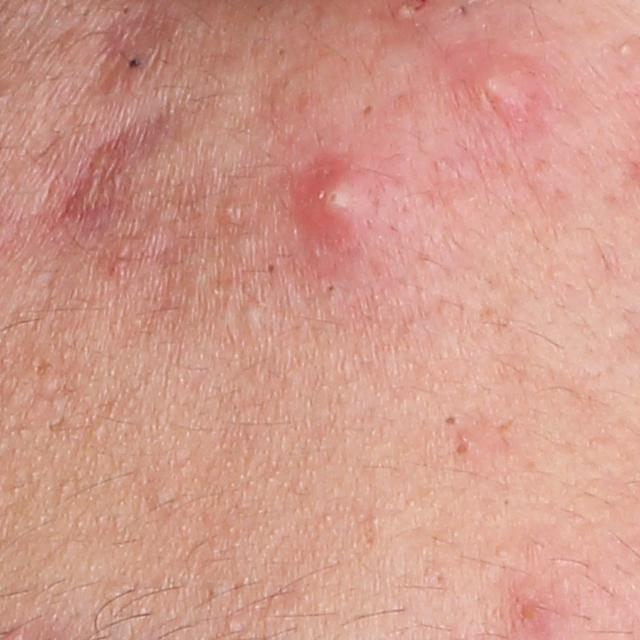comedo: (235, 302, 265, 334), (448, 435, 477, 462), (319, 276, 346, 301), (219, 203, 244, 222), (224, 614, 245, 633)
pustule: (468, 57, 531, 110), (316, 167, 369, 227)
